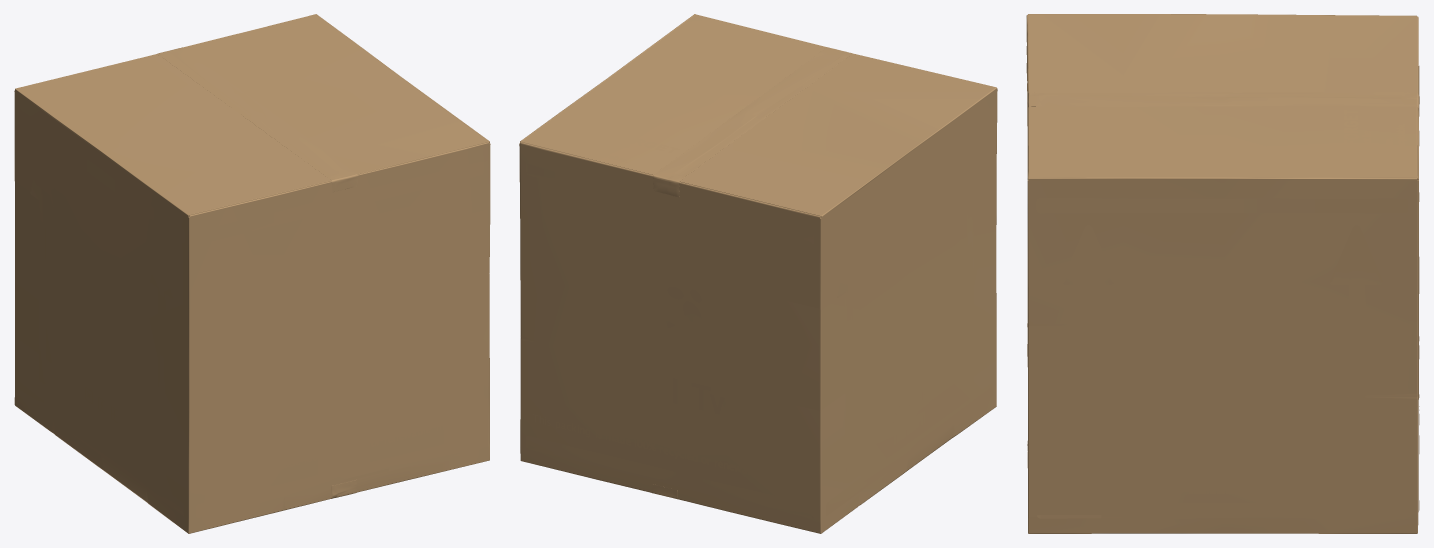
Rendered from box_corrugated_brown_b09.glb.
3 views of the same model, side by side, from view 1: azimuth 30°, elevation 25°; view 2: azimuth 150°, elevation 25°; view 3: azimuth 270°, elevation 25° (orthographic). The views are drawn at different scales.
Size of the model in its own units: 0.3616 by 0.3643 by 0.3637.
